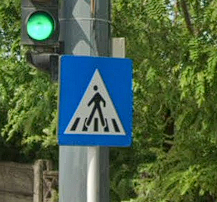trecere_pietoni: (53, 51, 135, 150)
